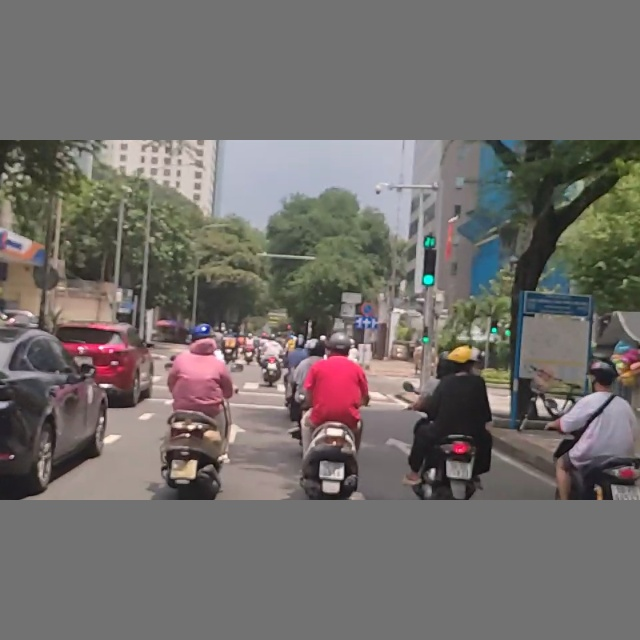P.130: (359, 302, 376, 318)
